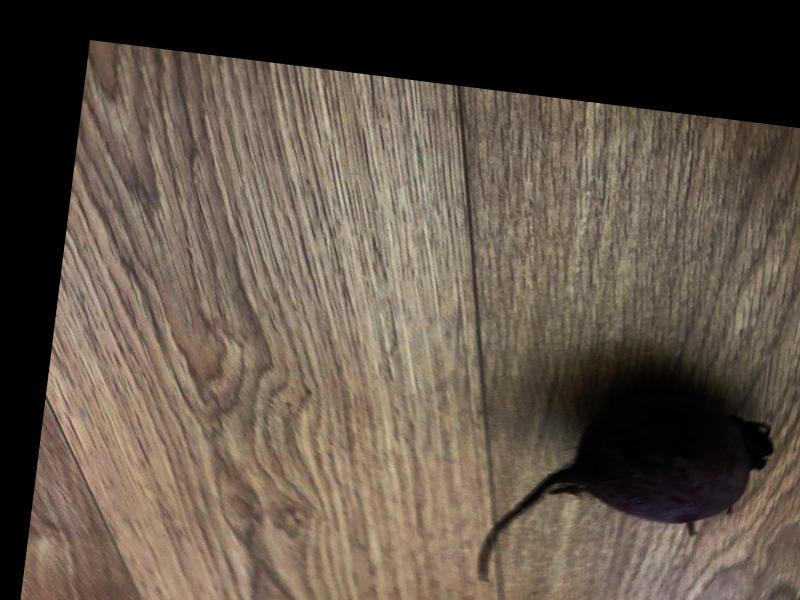Beet: (471, 371, 773, 600)
